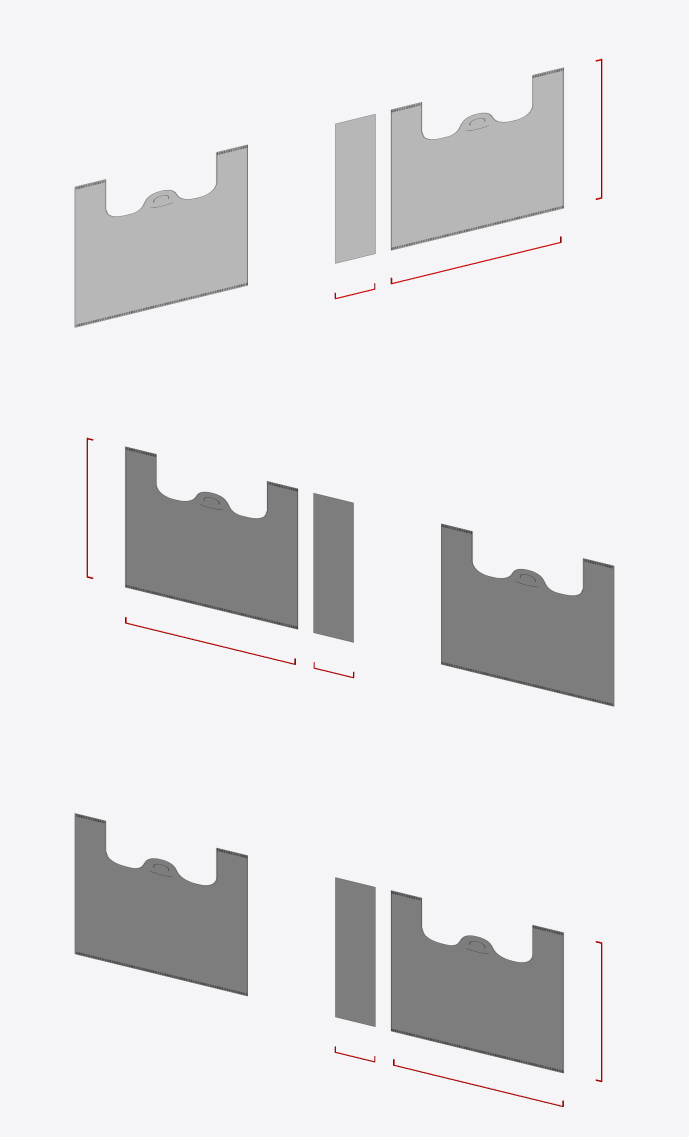
Rendered from 无纺布袋-背心袋.glb.
The picture shows the model from 3 angles, top to bottom: view 1: azimuth 30°, elevation 25°; view 2: azimuth 150°, elevation 25°; view 3: azimuth 330°, elevation 25°; orthographic projection.
Visible parts, largest first — view 1: bag, bag2; view 2: bag, bag2; view 3: bag, bag2.
Part boxes in pixels (<box>): bag: <box>74,67,563,327</box>; bag2: <box>335,114,375,263</box>; bag: <box>125,446,614,706</box>; bag2: <box>313,493,353,642</box>; bag: <box>74,813,563,1073</box>; bag2: <box>335,877,375,1026</box>.
Bounding box in the file's own units: 1.15 × 0.3373 × 0.00545.
4 materials, 2 textured.
